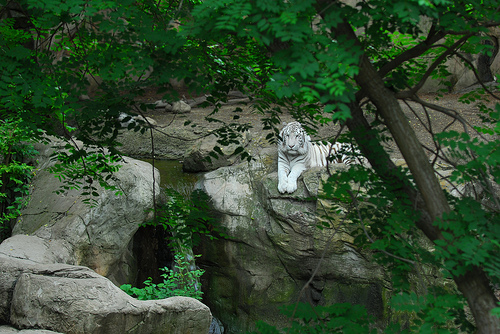Tigre: (272, 114, 321, 183)
